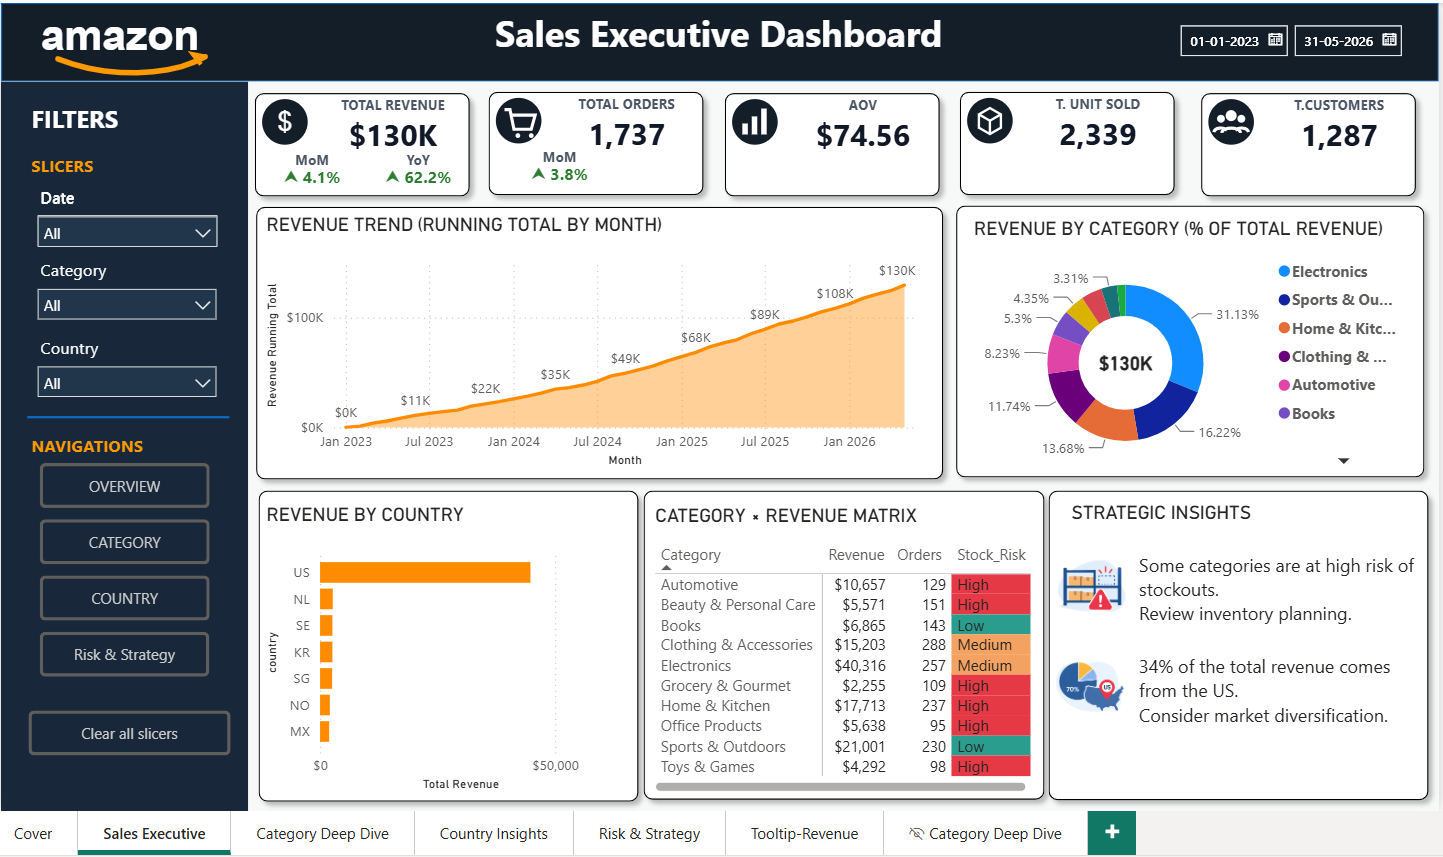

What the dashboard file says about the page in this screenshot:
{"tool":"powerbi","page":{"name":"Sales Executive","canvas":[1280,720],"ordinal":1},"visuals":[{"type":"group","id":"g1","title":"Group 1","box":[0,0,1280.3,69.9],"z":0},{"type":"shape","box":[0,0,1280.3,69.9],"z":0,"group":"g1"},{"type":"shape","box":[0,70,220.1,649.8],"z":0,"group":"g6"},{"type":"shape","box":[425.2,70,209.3,110],"z":0,"group":"g12"},{"type":"shape","box":[845.2,70,209.3,110],"z":0,"group":"g11"},{"type":"group","id":"g2","title":"Group 1","box":[217.2,70.9,209.3,110],"z":0,"group":"g10"},{"type":"shape","box":[217.2,70.9,209.3,110],"z":0,"group":"g2"},{"type":"shape","box":[635.2,70.9,209.3,110],"z":0,"group":"g9"},{"type":"shape","box":[1060.2,70.9,209.3,110],"z":0,"group":"g7"},{"type":"shape","box":[841.9,171.7,435,260],"z":0,"group":"g8"},{"type":"group","id":"g3","title":"Group 3","box":[218.3,172.5,629.3,262.1],"z":0,"group":"g13"},{"type":"shape","box":[218.3,172.5,629.9,260.7],"z":0,"group":"g3"},{"type":"shape","box":[563,425,375,293.2],"z":0,"group":"g15"},{"type":"group","id":"g4","title":"Group 9","box":[924.3,425,356.2,293.7],"z":0,"group":"g5"},{"type":"group","id":"g5","title":"Group 10","box":[924.3,425,356.2,293.7],"z":0,"group":"g16"},{"type":"shape","box":[924.3,425,356.2,293.7],"z":0,"group":"g4"},{"type":"shape","box":[220,425.7,356.2,295],"z":0,"group":"g17"},{"type":"image","box":[0,0,270.6,69.9],"z":1000,"group":"g1"},{"type":"group","id":"g6","title":"Group 4","box":[0,70,220.1,649.8],"z":1000},{"type":"group","id":"g7","title":"Group 2","box":[1060.2,70.9,209.3,110],"z":1000,"group":"g10"},{"type":"image","box":[438.4,82,45,45],"z":1000,"group":"g12"},{"type":"image","box":[858.4,82,45,45],"z":1000,"group":"g11"},{"type":"image","box":[230.4,82.9,45,45],"z":1000,"group":"g2"},{"type":"image","box":[648.4,82.9,45,45],"z":1000,"group":"g9"},{"type":"image","box":[1073.4,82.9,45,45],"z":1000,"group":"g7"},{"type":"textbox","box":[22.2,83.3,180.6,327.8],"z":1000,"group":"g6"},{"type":"group","id":"g8","title":"Group 6","box":[841.9,171.7,435,260],"z":1000,"group":"g13"},{"type":"areaChart","fields":{"Category":["Calendar.Month"],"Y":["_Measure.Revenue Running Total"]},"box":[232.1,187,602.2,230.9],"z":1000,"group":"g3"},{"type":"donutChart","title":"REVENUE BY CATEGORY (% OF TOTAL REVENUE)","fields":{"Category":["products.category"],"Y":["_Measure.Total Revenue"]},"box":[861.9,190.7,395.9,230],"z":1000,"group":"g8"},{"type":"textbox","title":"  STRATEGIC INSIGHTS","box":[944.5,438.5,192.9,29.1],"z":1000,"group":"g4"},{"type":"pivotTable","title":"CATEGORY × REVENUE MATRIX","fields":{"Rows":["products.category"],"Values":["_Measure.Total Revenue","_Measure.Total Orders","_Measure.Stock Risk Level"]},"box":[578,446,344.1,261],"z":1000,"group":"g15"},{"type":"clusteredBarChart","title":"REVENUE BY COUNTRY","fields":{"Category":["users.country"],"Y":["_Measure.Total Revenue"]},"box":[231.4,446.1,330,261.4],"z":1000,"group":"g17"},{"type":"image","box":[934.5,550.9,74,109.5],"z":1000,"group":"g16"},{"type":"textbox","box":[1008.8,573.6,258,86.6],"z":1000,"group":"g5"},{"type":"textbox","box":[350.9,0,577,70],"z":2000,"group":"g1"},{"type":"group","id":"g9","title":"Group 2","box":[635.2,70.9,209.3,110],"z":2000,"group":"g10"},{"type":"card","title":"TOTAL ORDERS","fields":{"Values":["_Measure.Total Orders"]},"box":[496.2,81.3,121.8,58.3],"z":2000,"group":"g12"},{"type":"card","title":"T. UNIT SOLD","fields":{"Values":["_Measure.Total Units Sold"]},"box":[916.2,81.3,121.8,58.3],"z":2000,"group":"g11"},{"type":"card","title":"TOTAL REVENUE","fields":{"Values":["_Measure.Total Revenue"]},"box":[288.2,82.2,121.8,58.3],"z":2000,"group":"g2"},{"type":"card","title":"AOV","fields":{"Values":["_Measure.Avg Order Value"]},"box":[706.2,82.2,121.8,58.3],"z":2000,"group":"g9"},{"type":"card","title":"T.CUSTOMERS","fields":{"Values":["_Measure.Total Customers"]},"box":[1131.2,82.2,121.8,58.3],"z":2000,"group":"g7"},{"type":"slicer","title":"DATE","fields":{"Values":["Calendar.Date"]},"box":[22.3,157.3,180,65],"z":2000,"group":"g6"},{"type":"textbox","box":[1008.8,484,258.6,86.8],"z":2000,"group":"g4"},{"type":"slicer","fields":{"Values":["Calendar.Date"]},"box":[1027.5,0,252.8,69.9],"z":3000,"group":"g1"},{"type":"group","id":"g10","title":"Group 5","box":[217.2,70,1052.3,110.9],"z":3000},{"type":"group","id":"g11","title":"Group 2","box":[845.2,70,209.3,110],"z":3000,"group":"g10"},{"type":"card","title":"MoM","fields":{"Values":["_Measure.Orders MoM % Arrow"]},"box":[451.1,129.3,93.6,40],"z":3000,"group":"g12"},{"type":"card","title":"MoM","fields":{"Values":["_Measure.Revenue MoM % Arrow"]},"box":[230.4,130.9,93.6,40],"z":3000,"group":"g2"},{"type":"slicer","fields":{"Values":["products.category"]},"box":[22.3,222.7,179.9,69.9],"z":3000,"group":"g6"},{"type":"image","box":[934.5,461.3,74.3,109.5],"z":3000,"group":"g4"},{"type":"group","id":"g12","title":"Group 2","box":[425.2,70,209.3,110],"z":4000,"group":"g10"},{"type":"card","title":"YoY","fields":{"Values":["_Measure.Revenue YoY % Arrow"]},"box":[325.2,130.9,93.6,40],"z":4000,"group":"g2"},{"type":"group","id":"g13","title":"Group 7","box":[218.3,171.7,1056.7,261.7],"z":4000},{"type":"slicer","fields":{"Values":["users.country"]},"box":[22.3,291.1,179.9,66.9],"z":4000,"group":"g6"},{"type":"shape","box":[23.8,358.1,179.9,20.8],"z":5000,"group":"g6"},{"type":"group","id":"g14","title":"Group 8","box":[563,425,375,293.2],"z":5000},{"type":"slicer","fields":{"Values":["Calendar.Date"]},"box":[1027.2,0,252.8,69.9],"z":6000},{"type":"slicer","title":"DATE","fields":{"Values":["Calendar.Date"]},"box":[22.3,157.8,180,65],"z":7000},{"type":"group","id":"g15","title":"Group 13","box":[563,425,375,293.2],"z":7001,"group":"g14"},{"type":"group","id":"g16","title":"Group 11","box":[924.3,425,355.4,293.2],"z":8000},{"type":"group","id":"g17","title":"Group 12","box":[220,425.7,356.2,295],"z":9000},{"type":"actionButton","title":"OVERVIEW","box":[34.7,410,151.4,40.3],"z":9001,"group":"g6"},{"type":"actionButton","box":[24,630,180,40],"z":9501,"group":"g6"},{"type":"actionButton","title":"Country","box":[34,510,151.4,40.3],"z":9626,"group":"g6"},{"type":"actionButton","title":"OVERVIEW","box":[34,560,151,40],"z":9751,"group":"g6"},{"type":"actionButton","title":"Category","box":[34.7,460,151.4,40.3],"z":10001,"group":"g6"}]}

Visuals, with their boxes on the page's 1280x720 design canvas (x1, y1, x2, y2). These are canvas units, not pixel positions in the 1443x857 screenshot, which may show the page scaled, cropped or inside an application window:
"Group 1" group: x1=0, y1=0, x2=1280, y2=70
shape: x1=0, y1=0, x2=1280, y2=70
shape: x1=0, y1=70, x2=220, y2=720
shape: x1=425, y1=70, x2=634, y2=180
shape: x1=845, y1=70, x2=1054, y2=180
"Group 1" group: x1=217, y1=71, x2=426, y2=181
shape: x1=217, y1=71, x2=426, y2=181
shape: x1=635, y1=71, x2=844, y2=181
shape: x1=1060, y1=71, x2=1270, y2=181
shape: x1=842, y1=172, x2=1277, y2=432
"Group 3" group: x1=218, y1=172, x2=848, y2=435
shape: x1=218, y1=172, x2=848, y2=433
shape: x1=563, y1=425, x2=938, y2=718
"Group 9" group: x1=924, y1=425, x2=1280, y2=719
"Group 10" group: x1=924, y1=425, x2=1280, y2=719
shape: x1=924, y1=425, x2=1280, y2=719
shape: x1=220, y1=426, x2=576, y2=721
image: x1=0, y1=0, x2=271, y2=70
"Group 4" group: x1=0, y1=70, x2=220, y2=720
"Group 2" group: x1=1060, y1=71, x2=1270, y2=181
image: x1=438, y1=82, x2=483, y2=127
image: x1=858, y1=82, x2=903, y2=127
image: x1=230, y1=83, x2=275, y2=128
image: x1=648, y1=83, x2=693, y2=128
image: x1=1073, y1=83, x2=1118, y2=128
textbox: x1=22, y1=83, x2=203, y2=411
"Group 6" group: x1=842, y1=172, x2=1277, y2=432
areaChart - Calendar.Month x _Measure.Revenue Running Total: x1=232, y1=187, x2=834, y2=418
"REVENUE BY CATEGORY (% OF TOTAL REVENUE)" donutChart: x1=862, y1=191, x2=1258, y2=421
"  STRATEGIC INSIGHTS" textbox: x1=944, y1=438, x2=1137, y2=468
"CATEGORY × REVENUE MATRIX" pivotTable: x1=578, y1=446, x2=922, y2=707
"REVENUE BY COUNTRY" clusteredBarChart: x1=231, y1=446, x2=561, y2=708
image: x1=934, y1=551, x2=1008, y2=660
textbox: x1=1009, y1=574, x2=1267, y2=660
textbox: x1=351, y1=0, x2=928, y2=70
"Group 2" group: x1=635, y1=71, x2=844, y2=181
"TOTAL ORDERS" card: x1=496, y1=81, x2=618, y2=140
"T. UNIT SOLD" card: x1=916, y1=81, x2=1038, y2=140
"TOTAL REVENUE" card: x1=288, y1=82, x2=410, y2=140
"AOV" card: x1=706, y1=82, x2=828, y2=140
"T.CUSTOMERS" card: x1=1131, y1=82, x2=1253, y2=140
"DATE" slicer: x1=22, y1=157, x2=202, y2=222
textbox: x1=1009, y1=484, x2=1267, y2=571
slicer - Calendar.Date: x1=1028, y1=0, x2=1280, y2=70
"Group 5" group: x1=217, y1=70, x2=1270, y2=181
"Group 2" group: x1=845, y1=70, x2=1054, y2=180
"MoM" card: x1=451, y1=129, x2=545, y2=169
"MoM" card: x1=230, y1=131, x2=324, y2=171
slicer - products.category: x1=22, y1=223, x2=202, y2=293
image: x1=934, y1=461, x2=1009, y2=571
"Group 2" group: x1=425, y1=70, x2=634, y2=180
"YoY" card: x1=325, y1=131, x2=419, y2=171
"Group 7" group: x1=218, y1=172, x2=1275, y2=433
slicer - users.country: x1=22, y1=291, x2=202, y2=358
shape: x1=24, y1=358, x2=204, y2=379
"Group 8" group: x1=563, y1=425, x2=938, y2=718
slicer - Calendar.Date: x1=1027, y1=0, x2=1280, y2=70
"DATE" slicer: x1=22, y1=158, x2=202, y2=223
"Group 13" group: x1=563, y1=425, x2=938, y2=718
"Group 11" group: x1=924, y1=425, x2=1280, y2=718
"Group 12" group: x1=220, y1=426, x2=576, y2=721
"OVERVIEW" actionButton: x1=35, y1=410, x2=186, y2=450
actionButton: x1=24, y1=630, x2=204, y2=670
"Country" actionButton: x1=34, y1=510, x2=185, y2=550
"OVERVIEW" actionButton: x1=34, y1=560, x2=185, y2=600
"Category" actionButton: x1=35, y1=460, x2=186, y2=500
